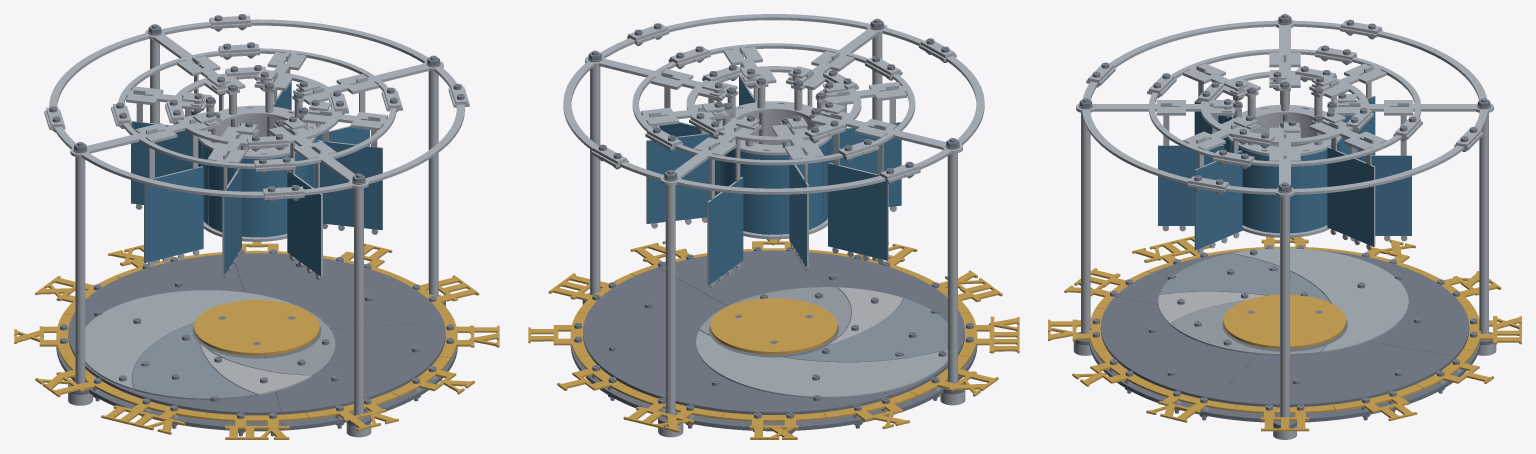
Rendered from stage-v11.glb.
3 views of the same model, side by side, from view 1: azimuth 30°, elevation 25°; view 2: azimuth 150°, elevation 25°; view 3: azimuth 270°, elevation 25° (orthographic). The views are drawn at different scales.
Visible parts, largest first — view 1: DECK_Q1, DECK_Q4, FLOOR_INLAY_1, CENTER_PLATFORM, ROOF_Q3, SCREEN_W, ROOF_Q4, ROOF_Q1, FLOOR_INLAY_2, ROOF_Q2, DECK_Q2, DRUM_SKIN_2 (+27 smaller); view 2: DECK_Q1, FLOOR_INLAY_1, DECK_Q4, DECK_Q2, ROOF_Q2, CENTER_PLATFORM, SCREEN_W, ROOF_Q4, ROOF_Q3, FLOOR_INLAY_2, DRUM_SKIN_1, ROOF_Q1 (+27 smaller); view 3: DECK_Q1, DECK_Q4, FLOOR_INLAY_1, ROOF_Q1, DECK_Q2, CENTER_PLATFORM, ROOF_Q3, ROOF_Q4, ROOF_Q2, FLOOR_INLAY_2, SCREEN_NE, SCREEN_SE (+27 smaller).
Boxes of the visible parts, left/top/right/bottom form: DECK_Q1: left=235, top=253, right=443, bottom=329; DECK_Q4: left=264, top=322, right=445, bottom=414; FLOOR_INLAY_1: left=85, top=290, right=293, bottom=389; CENTER_PLATFORM: left=194, top=300, right=319, bottom=355; ROOF_Q3: left=47, top=111, right=284, bottom=199; SCREEN_W: left=144, top=118, right=203, bottom=266; ROOF_Q4: left=268, top=95, right=469, bottom=198; ROOF_Q1: left=231, top=19, right=466, bottom=104; FLOOR_INLAY_2: left=132, top=323, right=256, bottom=399; ROOF_Q2: left=44, top=20, right=246, bottom=121; DECK_Q2: left=68, top=254, right=243, bottom=345; DRUM_SKIN_2: left=208, top=127, right=312, bottom=237; DECK_Q1: left=583, top=267, right=727, bottom=383; FLOOR_INLAY_1: left=696, top=330, right=947, bottom=398; DECK_Q4: left=658, top=250, right=925, bottom=306; DECK_Q2: left=622, top=346, right=890, bottom=414; ROOF_Q2: left=603, top=118, right=904, bottom=194; CENTER_PLATFORM: left=710, top=298, right=837, bottom=354; SCREEN_W: left=828, top=113, right=888, bottom=264; ROOF_Q4: left=652, top=14, right=932, bottom=90; ROOF_Q3: left=809, top=51, right=984, bottom=177; FLOOR_INLAY_2: left=785, top=298, right=947, bottom=362; DRUM_SKIN_1: left=717, top=145, right=822, bottom=234; ROOF_Q1: left=563, top=36, right=738, bottom=160; DECK_Q1: left=1214, top=336, right=1454, bottom=407; DECK_Q4: left=1100, top=297, right=1264, bottom=400; FLOOR_INLAY_1: left=1231, top=248, right=1408, bottom=352; ROOF_Q1: left=1206, top=119, right=1475, bottom=197; DECK_Q2: left=1338, top=255, right=1469, bottom=358; CENTER_PLATFORM: left=1223, top=294, right=1346, bottom=348; ROOF_Q3: left=1107, top=19, right=1358, bottom=98; ROOF_Q4: left=1076, top=75, right=1260, bottom=189; ROOF_Q2: left=1309, top=29, right=1493, bottom=142; FLOOR_INLAY_2: left=1159, top=253, right=1330, bottom=302; SCREEN_NE: left=1327, top=122, right=1375, bottom=250; SCREEN_SE: left=1194, top=123, right=1242, bottom=253.
Size of the model in its own units: 0.2418 by 0.1426 by 0.2418.
